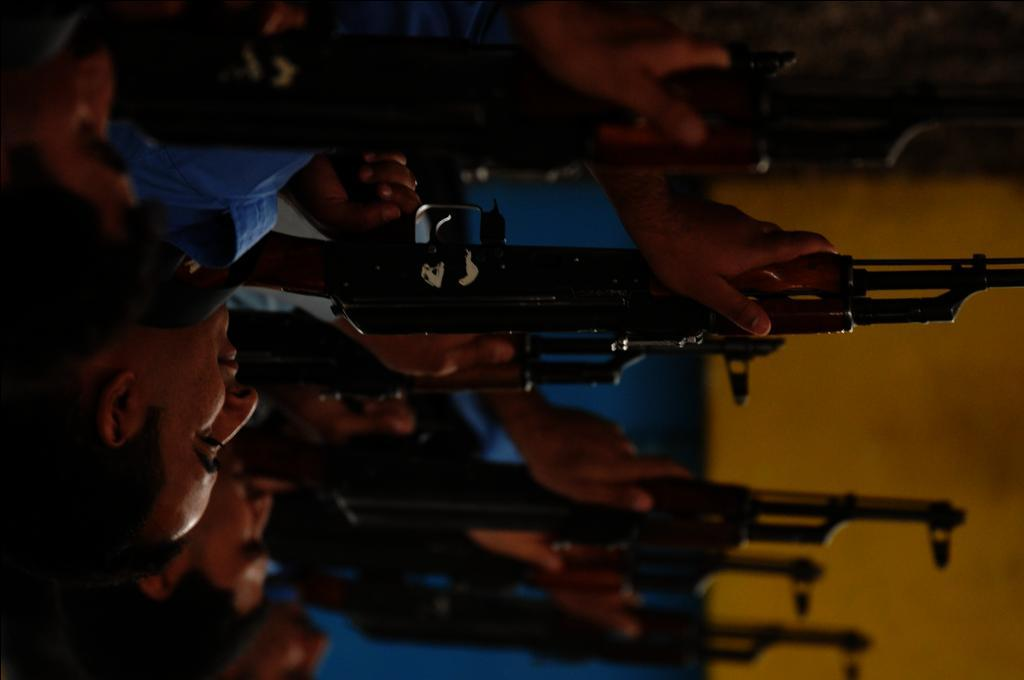gun: (104, 20, 1021, 178), (212, 195, 1024, 347), (250, 444, 960, 570), (296, 563, 869, 679), (220, 324, 788, 404)
